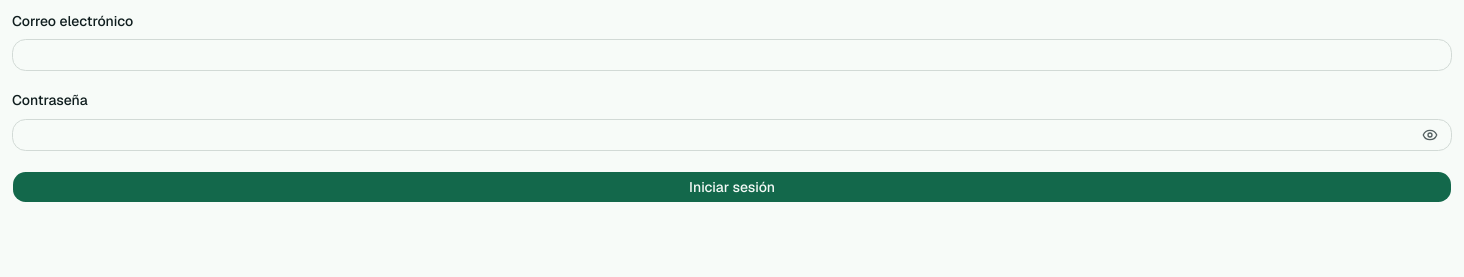
LoginForm › shows a generic error if signIn fails despite a 200 from the API (race condition)
The width and height of the screenshot is (1464, 277).
In the field labelled "Correo electrónico": (732, 55) [12,39,1452,71], type "ana@example.com"
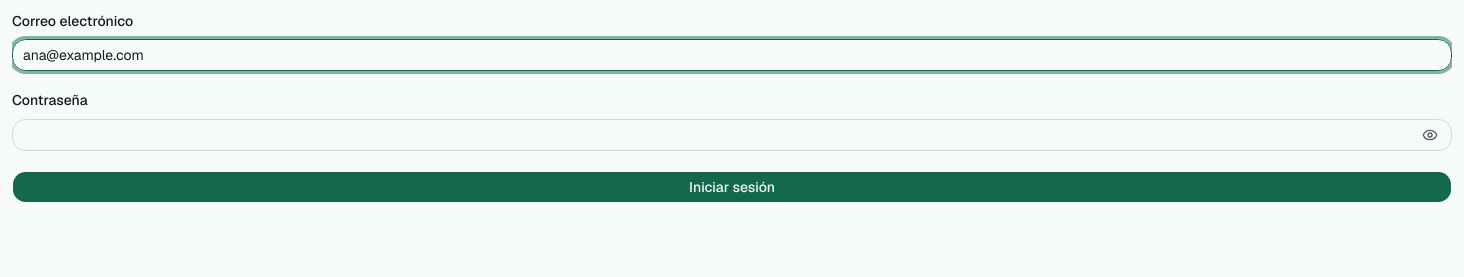
In the password field labelled "Contraseña": (732, 134) [12,118,1452,150], type "SecurePass123!"
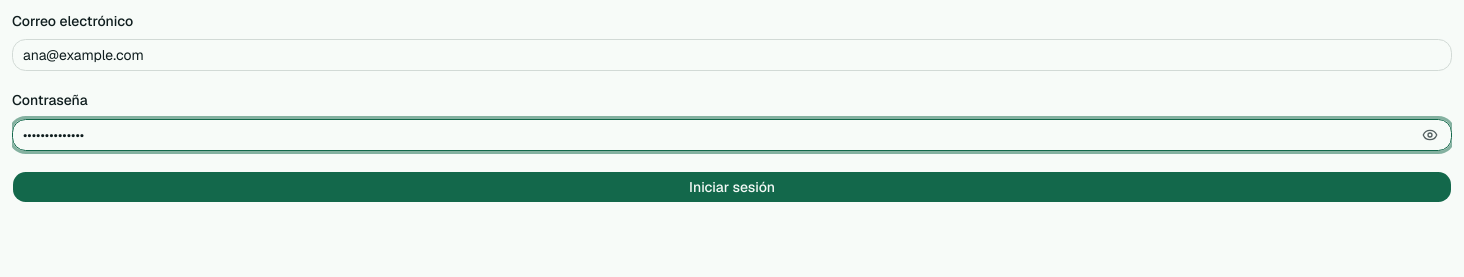
Click the button "Iniciar sesión": (732, 186) [12,170,1452,202]
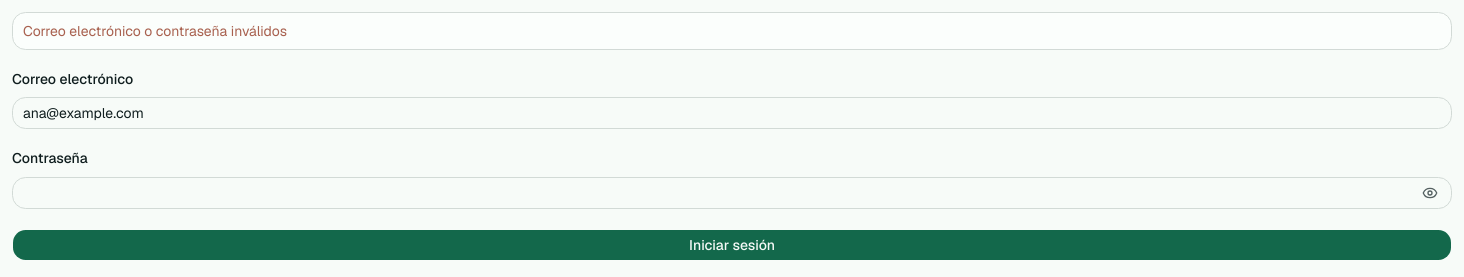
Expected: the text "Correo electrónico o contraseña inválidos" is shown, [23,22,287,40]
